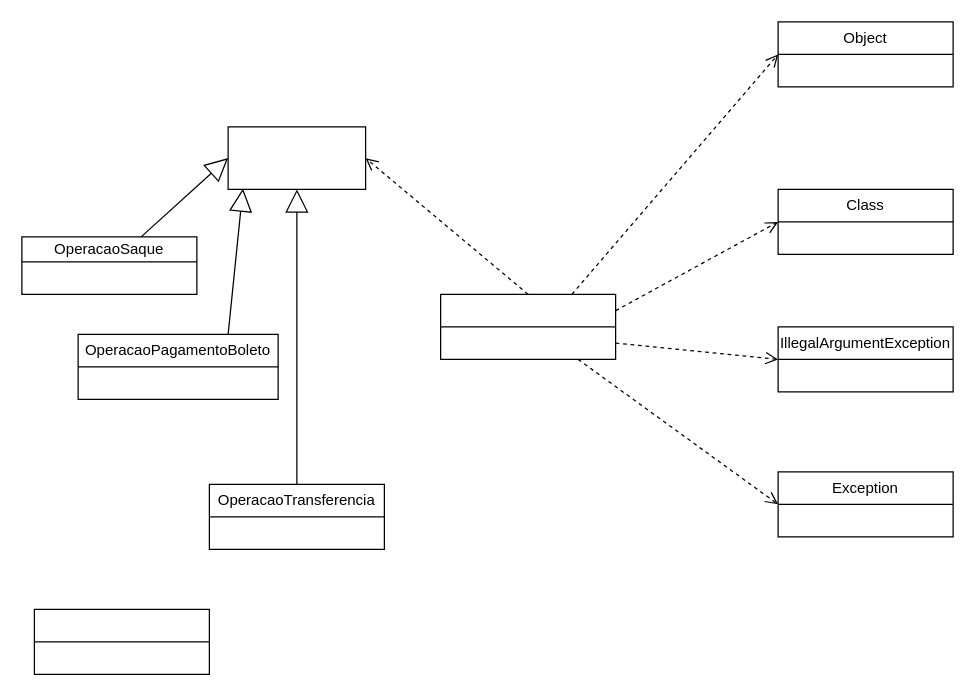
This 975x696 diagram has some shape labels left out. The box of each missing label's shape, as (x1, y1, x2, y2) in pixels:
OperacaoDeposito: (33, 608, 209, 674)
OperacaoFactory: (439, 293, 616, 359)
«interface» IOperacao: (227, 126, 366, 189)
